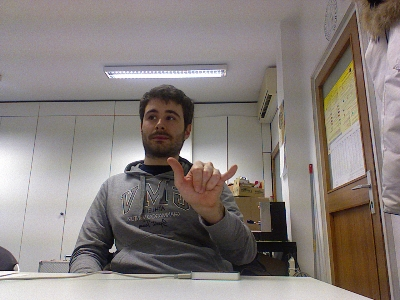六六六: (165, 156, 238, 210)
